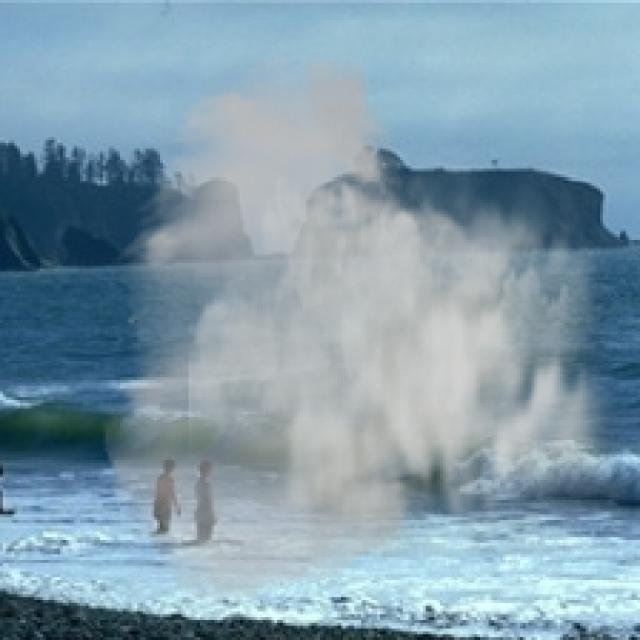smoke: (100, 49, 634, 612)
